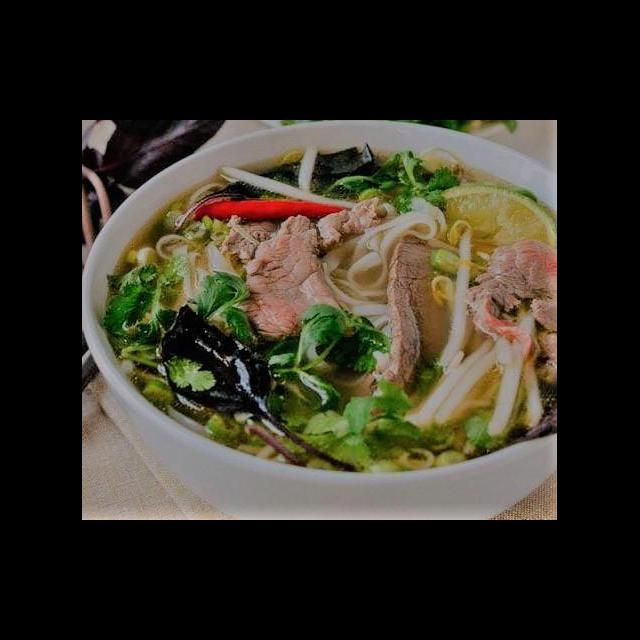banh pho: (402, 305, 548, 450), (132, 230, 242, 330), (328, 218, 402, 332)
pho bo: (95, 143, 557, 516)
thit bo: (232, 213, 348, 346), (376, 227, 458, 410), (464, 230, 558, 388), (308, 191, 391, 257)
